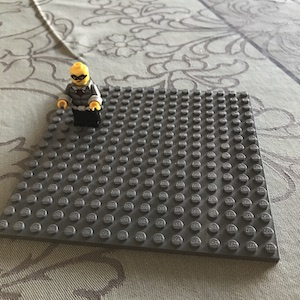Lego: (56, 61, 104, 127)
